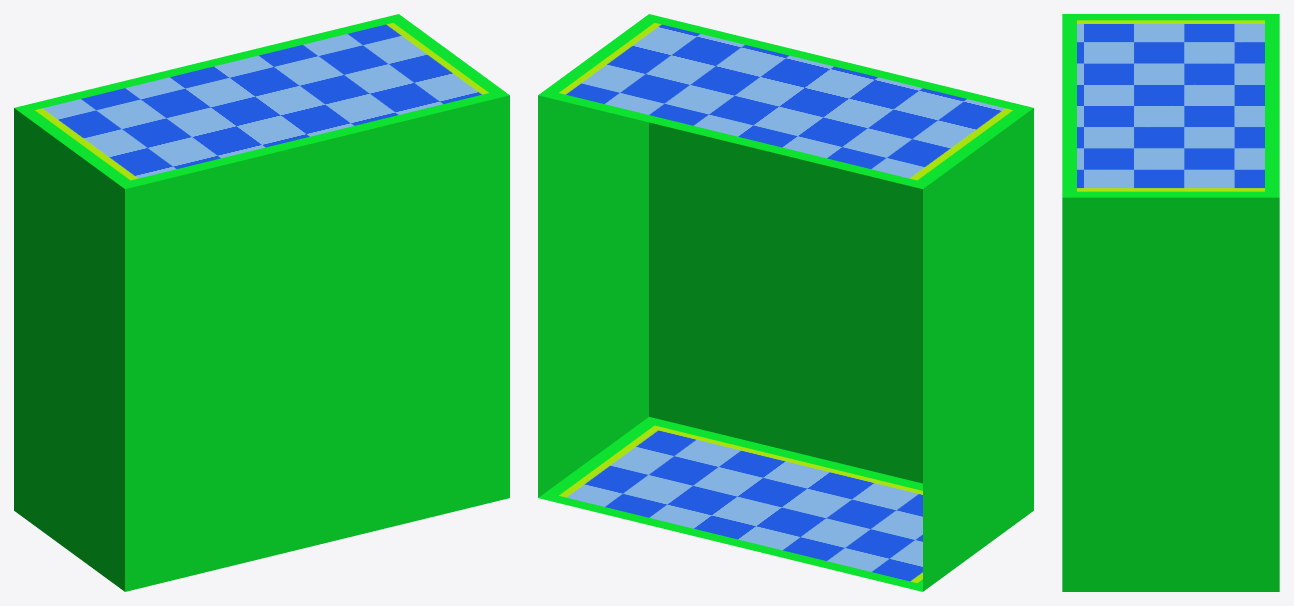
File: LightWall05_1.FBX
3 renders of one model, left to right at view 1: azimuth 30°, elevation 25°; view 2: azimuth 150°, elevation 25°; view 3: azimuth 270°, elevation 25°, orthographic. The views are drawn at different scales.
Visible parts, largest first — view 1: LightWall05_1; view 2: LightWall05_1; view 3: LightWall05_1.
Boxes of the visible parts, bbox=[...] form: LightWall05_1: bbox=[14, 14, 509, 591]; LightWall05_1: bbox=[538, 14, 1033, 591]; LightWall05_1: bbox=[1062, 14, 1279, 591].
Bounding box in the file's own units: 10 × 10 × 5.
